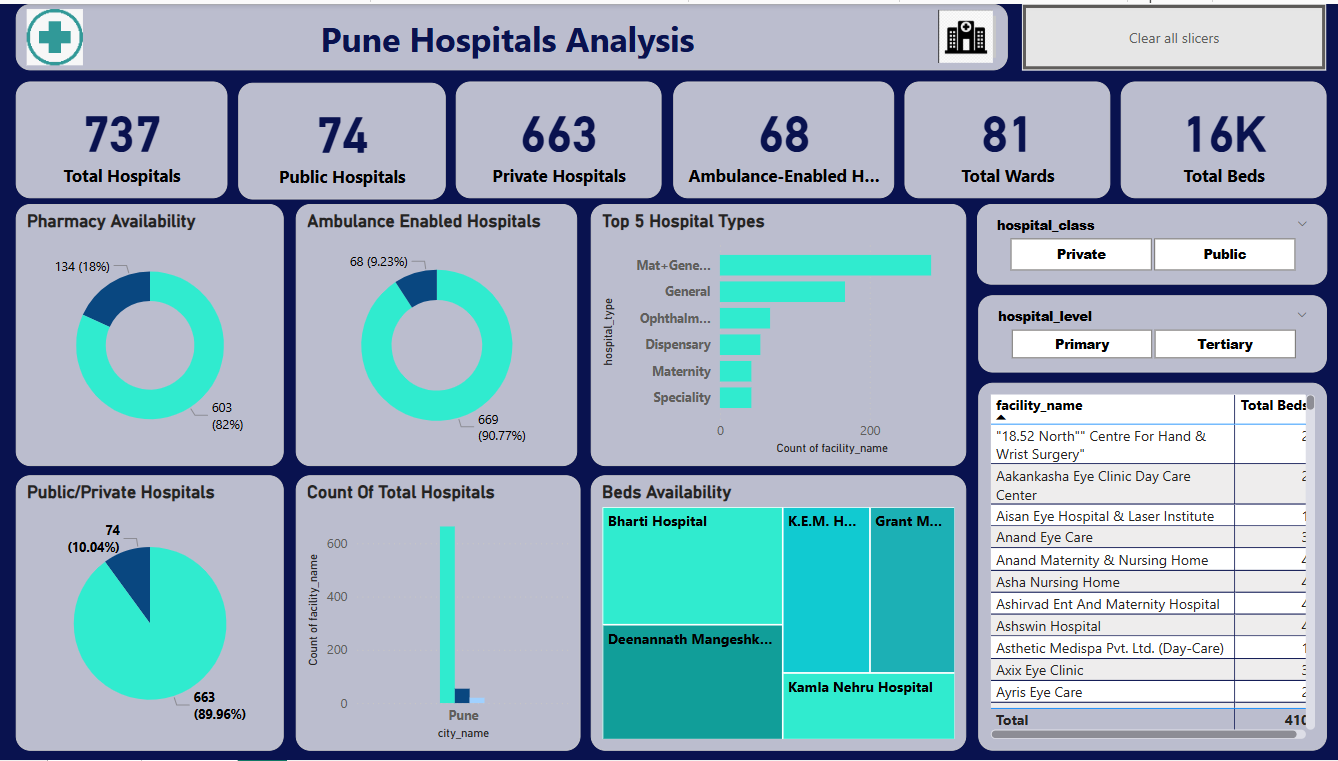

What the dashboard file says about the page in this screenshot:
{"tool":"powerbi","page":{"name":"Page 1","canvas":[1280,720],"ordinal":0},"visuals":[{"type":"textbox","box":[17.3,0,945,63.5],"z":0},{"type":"card","fields":{"Values":["hospitals all_hospitals.Total Hospitals"]},"box":[17.3,73.6,202,111.1],"z":1000},{"type":"card","fields":{"Values":["hospitals all_hospitals.Public Hospitals"]},"box":[229.4,75,197.7,111.1],"z":2000},{"type":"card","fields":{"Values":["hospitals all_hospitals.Ambulance-Enabled Hospitals"]},"box":[643.5,73.6,210.6,111.1],"z":3000},{"type":"card","fields":{"Values":["hospitals all_hospitals.Private Hospitals"]},"box":[437.2,73.6,196.2,111.1],"z":4000},{"type":"card","fields":{"Values":["hospitals all_hospitals.Total Beds"]},"box":[1070.5,73.6,196.2,111.1],"z":5000},{"type":"card","fields":{"Values":["hospitals all_hospitals.Total Wards"]},"box":[864.2,73.6,196.2,111.1],"z":6000},{"type":"donutChart","title":"Pharmacy Availability ","fields":{"Category":["hospitals all_hospitals.pharmacy_availability"],"Y":["CountNonNull(hospitals all_hospitals.facility_name)"]},"box":[17.3,190.4,255.4,249.6],"z":7000},{"type":"donutChart","title":"Ambulance Enabled Hospitals","fields":{"Y":["CountNonNull(hospitals all_hospitals.facility_name)"],"Category":["hospitals all_hospitals.ambulance_service"]},"box":[284.2,190.4,268.4,249.6],"z":8000},{"type":"pieChart","title":"Public/Private Hospitals","fields":{"Category":["hospitals all_hospitals.hospital_class"],"Y":["CountNonNull(hospitals all_hospitals.facility_name)"]},"box":[17.3,448.7,255.4,262.6],"z":9000},{"type":"barChart","title":"Top 5 Hospital Types","fields":{"Y":["CountNonNull(hospitals all_hospitals.facility_name)"],"Category":["hospitals all_hospitals.hospital_type"]},"box":[565.6,190.4,357.8,249.6],"z":10000},{"type":"clusteredColumnChart","title":"Count Of Total Hospitals ","fields":{"Category":["hospitals all_hospitals.city_name"],"Series":["hospitals all_hospitals.hospital_level"],"Y":["CountNonNull(hospitals all_hospitals.facility_name)"]},"box":[284.2,448.7,271.2,262.6],"z":11000},{"type":"slicer","fields":{"Values":["hospitals all_hospitals.hospital_level"]},"box":[934.9,277,331.8,73.6],"z":12000},{"type":"treemap","title":"Beds Availability","fields":{"Group":["hospitals all_hospitals.facility_name"],"Values":["hospitals all_hospitals.Total Beds"]},"box":[565.6,448.7,357.8,262.6],"z":13000},{"type":"tableEx","fields":{"Values":["hospitals all_hospitals.facility_name","hospitals all_hospitals.Total Beds"]},"box":[934.9,360.7,331.8,350.6],"z":14000},{"type":"slicer","fields":{"Values":["hospitals all_hospitals.hospital_class"]},"box":[933.5,190.4,333.3,76.5],"z":15000},{"type":"actionButton","box":[976.7,0,290,63.5],"z":16000},{"type":"image","box":[17.3,0,75,63.5],"z":17000},{"type":"image","box":[891.6,0,62,62],"z":17001}]}

Visuals, with their boxes in screenshot pixels (x1, y1, x2, y2), scaled from the page's 1280x720 canvas onto the 1338x761 screenshot:
textbox: [x1=18, y1=0, x2=1006, y2=67]
card - hospitals all_hospitals.Total Hospitals: [x1=18, y1=78, x2=229, y2=195]
card - hospitals all_hospitals.Public Hospitals: [x1=240, y1=79, x2=446, y2=197]
card - hospitals all_hospitals.Ambulance-Enabled Hospitals: [x1=673, y1=78, x2=893, y2=195]
card - hospitals all_hospitals.Private Hospitals: [x1=457, y1=78, x2=662, y2=195]
card - hospitals all_hospitals.Total Beds: [x1=1119, y1=78, x2=1324, y2=195]
card - hospitals all_hospitals.Total Wards: [x1=903, y1=78, x2=1108, y2=195]
"Pharmacy Availability " donutChart: [x1=18, y1=201, x2=285, y2=465]
"Ambulance Enabled Hospitals" donutChart: [x1=297, y1=201, x2=578, y2=465]
"Public/Private Hospitals" pieChart: [x1=18, y1=474, x2=285, y2=752]
"Top 5 Hospital Types" barChart: [x1=591, y1=201, x2=965, y2=465]
"Count Of Total Hospitals " clusteredColumnChart: [x1=297, y1=474, x2=581, y2=752]
slicer - hospitals all_hospitals.hospital_level: [x1=977, y1=293, x2=1324, y2=371]
"Beds Availability" treemap: [x1=591, y1=474, x2=965, y2=752]
tableEx - hospitals all_hospitals.facility_name x hospitals all_hospitals.Total Beds: [x1=977, y1=381, x2=1324, y2=752]
slicer - hospitals all_hospitals.hospital_class: [x1=976, y1=201, x2=1324, y2=282]
actionButton: [x1=1021, y1=0, x2=1324, y2=67]
image: [x1=18, y1=0, x2=96, y2=67]
image: [x1=932, y1=0, x2=997, y2=66]
